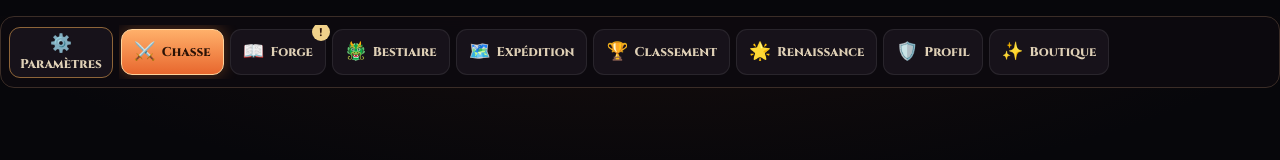
Test case: TabBar › ouvre un onglet et efface sa pastille
Click the tab "📖 Forge !": (278, 52) [230,29,326,75]
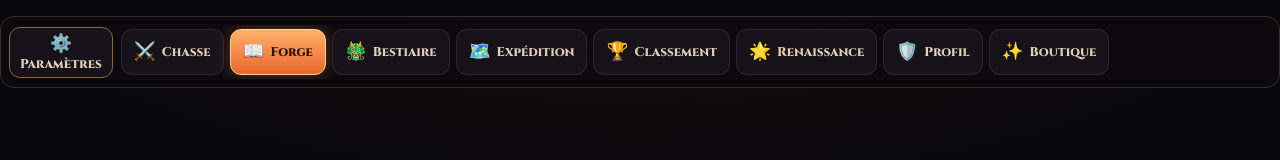
Now the tab "📖 Forge" no longer shows "!", box [230,29,326,75]
